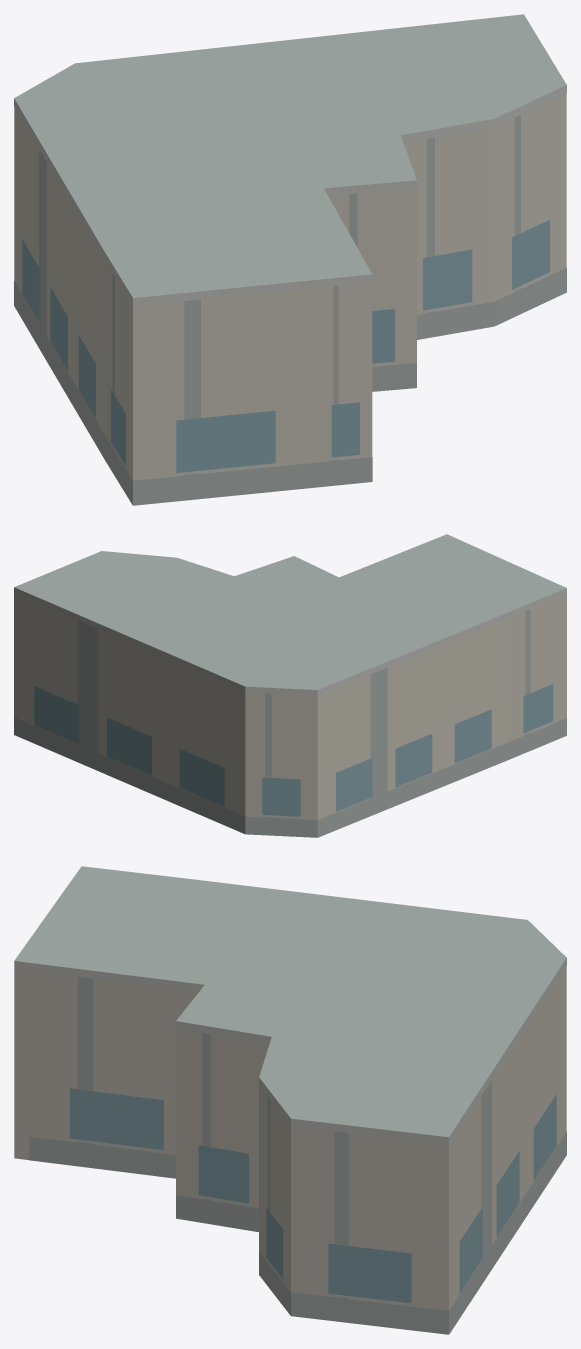
Rendered from survey-upis-32870193.glb.
The picture shows the model from 3 angles, top to bottom: view 1: azimuth 30°, elevation 25°; view 2: azimuth 150°, elevation 25°; view 3: azimuth 270°, elevation 25°; orthographic projection. The views are drawn at different scales.
Visible parts, largest first — view 1: survey-upis-32870193.tmp; view 2: survey-upis-32870193.tmp; view 3: survey-upis-32870193.tmp.
Boxes of the visible parts, x1,y1,x2,y2 form: survey-upis-32870193.tmp: [14, 14, 566, 505]; survey-upis-32870193.tmp: [14, 534, 566, 837]; survey-upis-32870193.tmp: [14, 866, 566, 1334].
Size of the model in its own units: 17.97 by 6.1 by 15.48.
